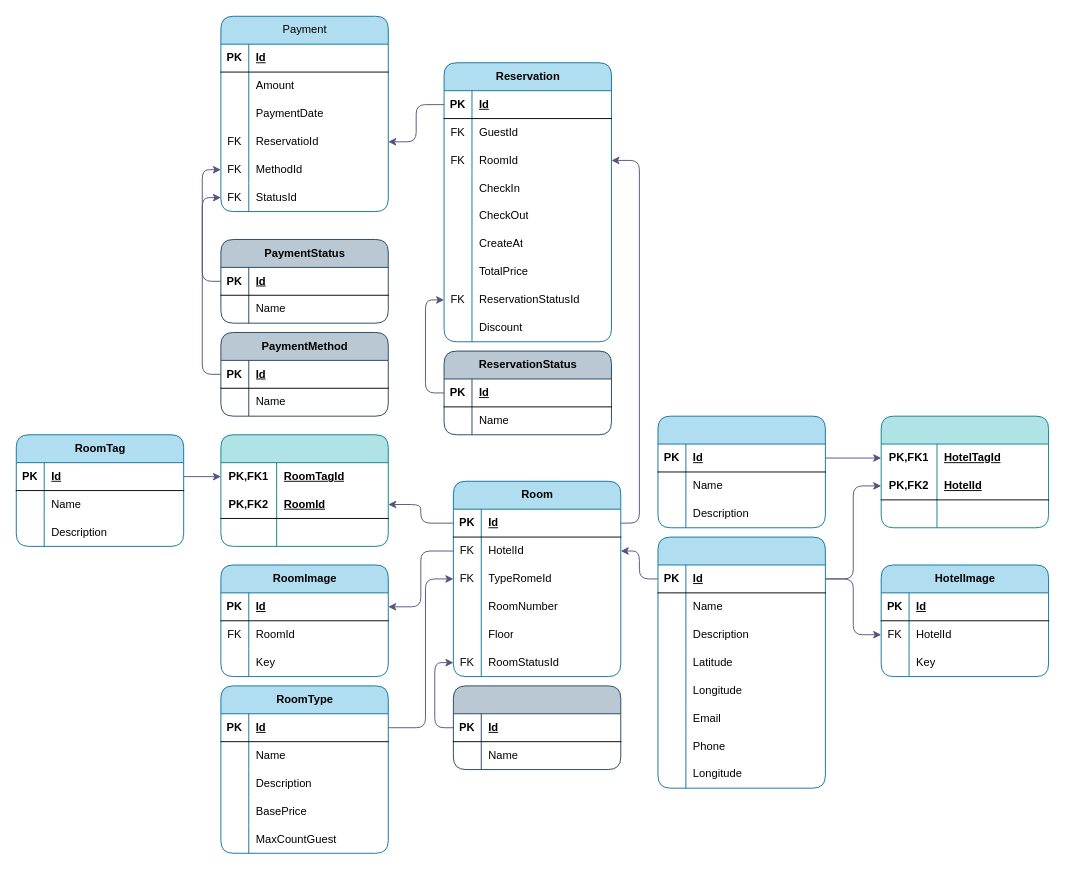
Image size: 1065x870. Some labels were removed from this diagram. Here are the shapes that lost their labels. From the top down, the box of each, then its label:
(220, 434, 388, 546): RoomTagRoom
(657, 415, 825, 528): HotelTag
(880, 415, 1049, 528): Hotel HotelTag
(657, 536, 825, 788): Hotel
(452, 685, 621, 770): RoomStatus
